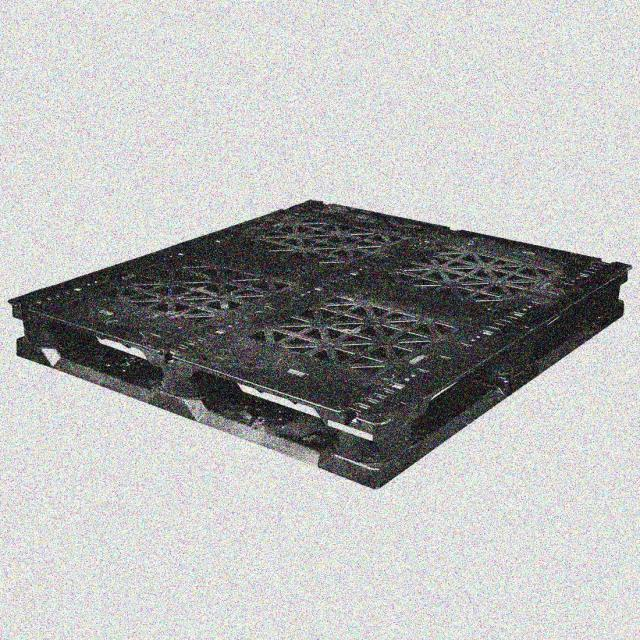non-igps: (5, 189, 636, 498)
